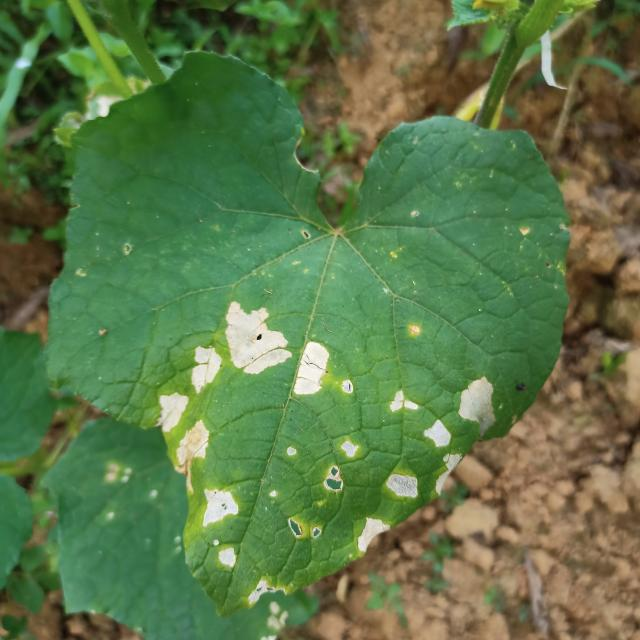disease_cucumber: (226, 299, 330, 397), (387, 379, 498, 445), (156, 391, 209, 461), (388, 451, 458, 499), (200, 486, 241, 565), (323, 441, 359, 496), (191, 346, 222, 396), (353, 516, 386, 548)
